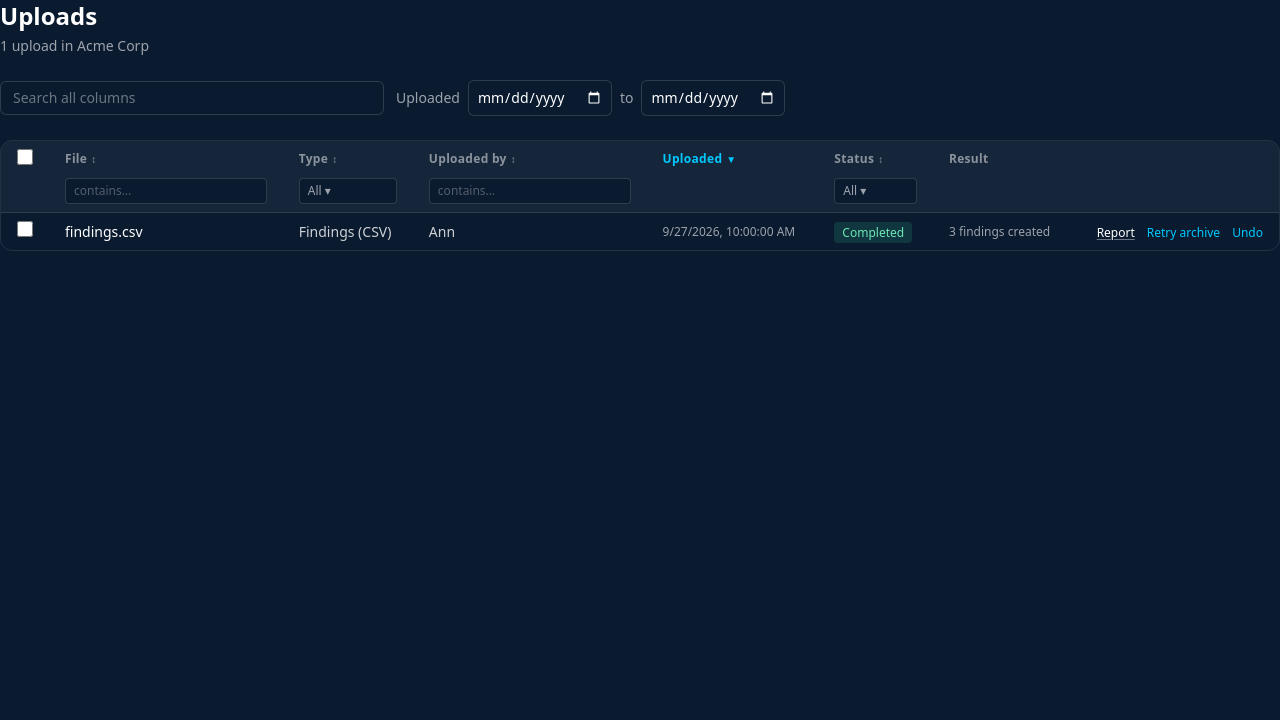
Test: Uploads page › undoes an archive that stopped part-way
Expected: the button with aria-label "Retry archive findings.csv" is enabled, top-left (1147, 224), bottom-right (1220, 240)
What coordinates should you click on to do the following:
click the button with aria-label "Undo findings.csv"
I would click on:
 (1248, 232)
Its box is top-left (1232, 224), bottom-right (1263, 240).
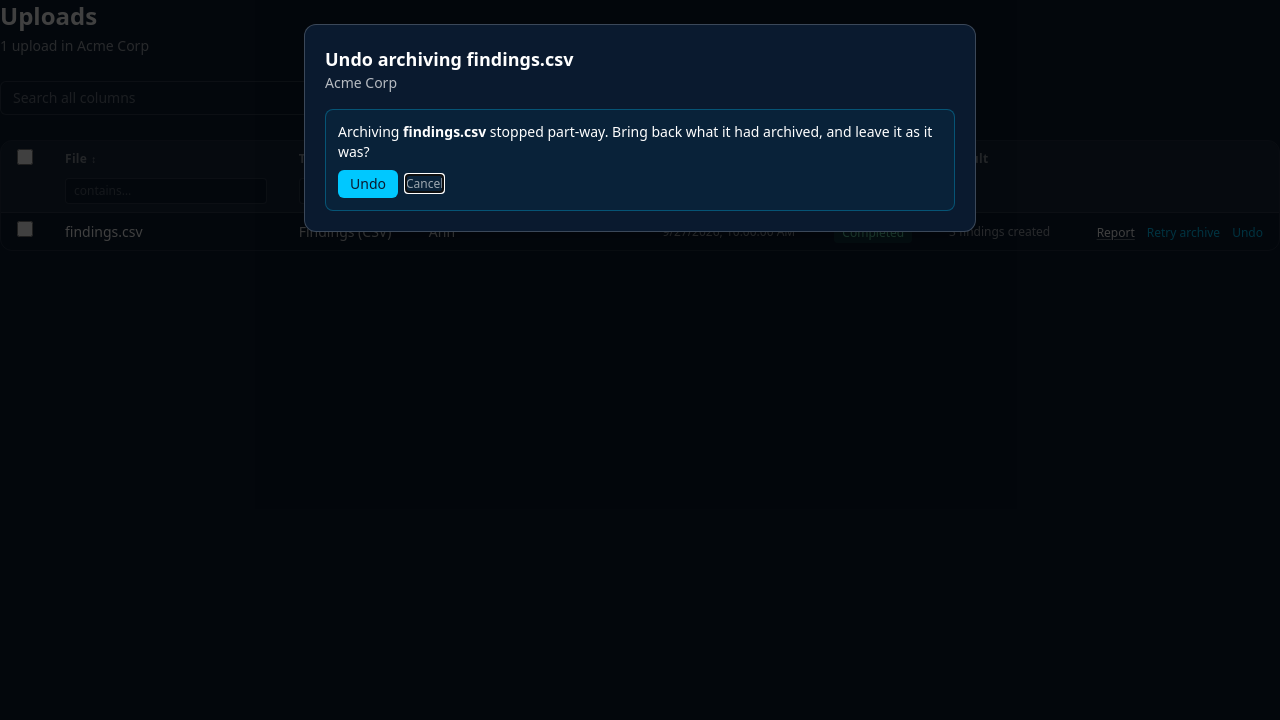
Expected: the element named "Undo archiving findings.csv" shows "stopped part-way. Bring back what it had archived", top-left (338, 122), bottom-right (932, 161)
What coordinates should you click on to do the following:
click the button "Undo"
I would click on:
 (368, 184)
Its box is top-left (338, 170), bottom-right (398, 198).
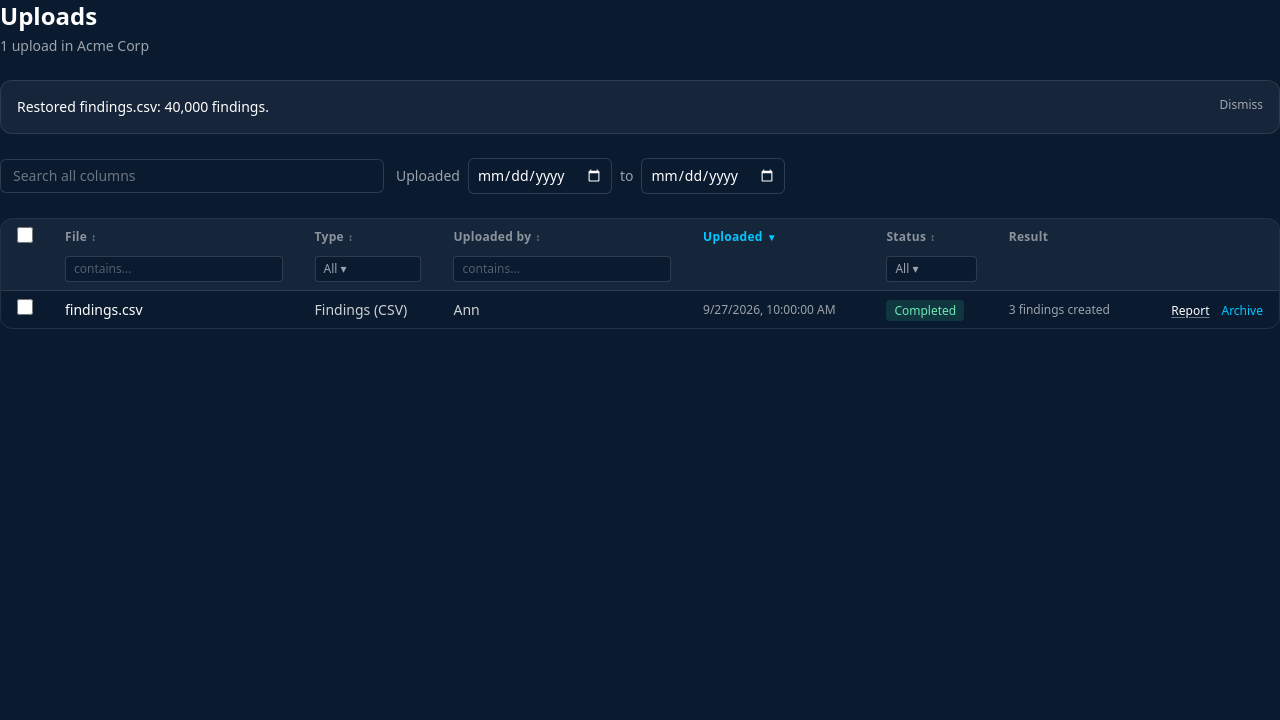
Expected: the button with aria-label "Archive findings.csv" is enabled, top-left (1222, 302), bottom-right (1263, 318)
Expected: the text "Restored findings.csv: 40,000 findings." is shown, top-left (17, 97), bottom-right (269, 117)
